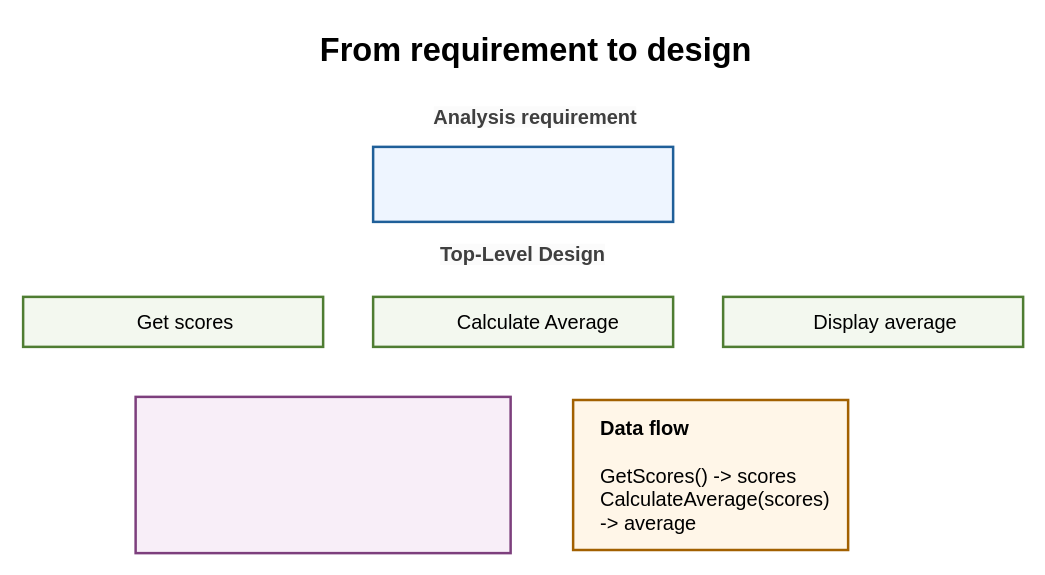
Some shapes in this 1045 by 575 pixel diagram are drawn without their labels. The shapes that lost their labels are listed below. From the top down, each one's box as (x1, y1, x2, y2) in pixels, then its label:
(371, 145, 674, 222): Calculate and display the average test score
(134, 395, 511, 554): Refinement FOR count <- 1 TO 3 INPUT score[count] END FOR
